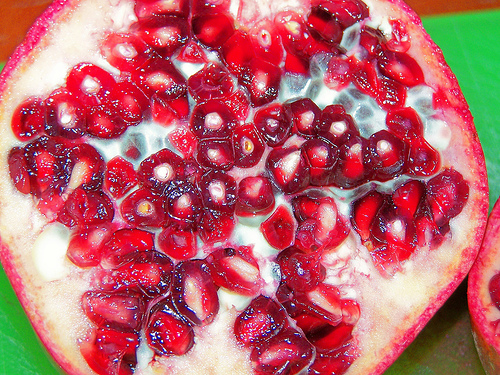pomogranate: (1, 0, 488, 374)
